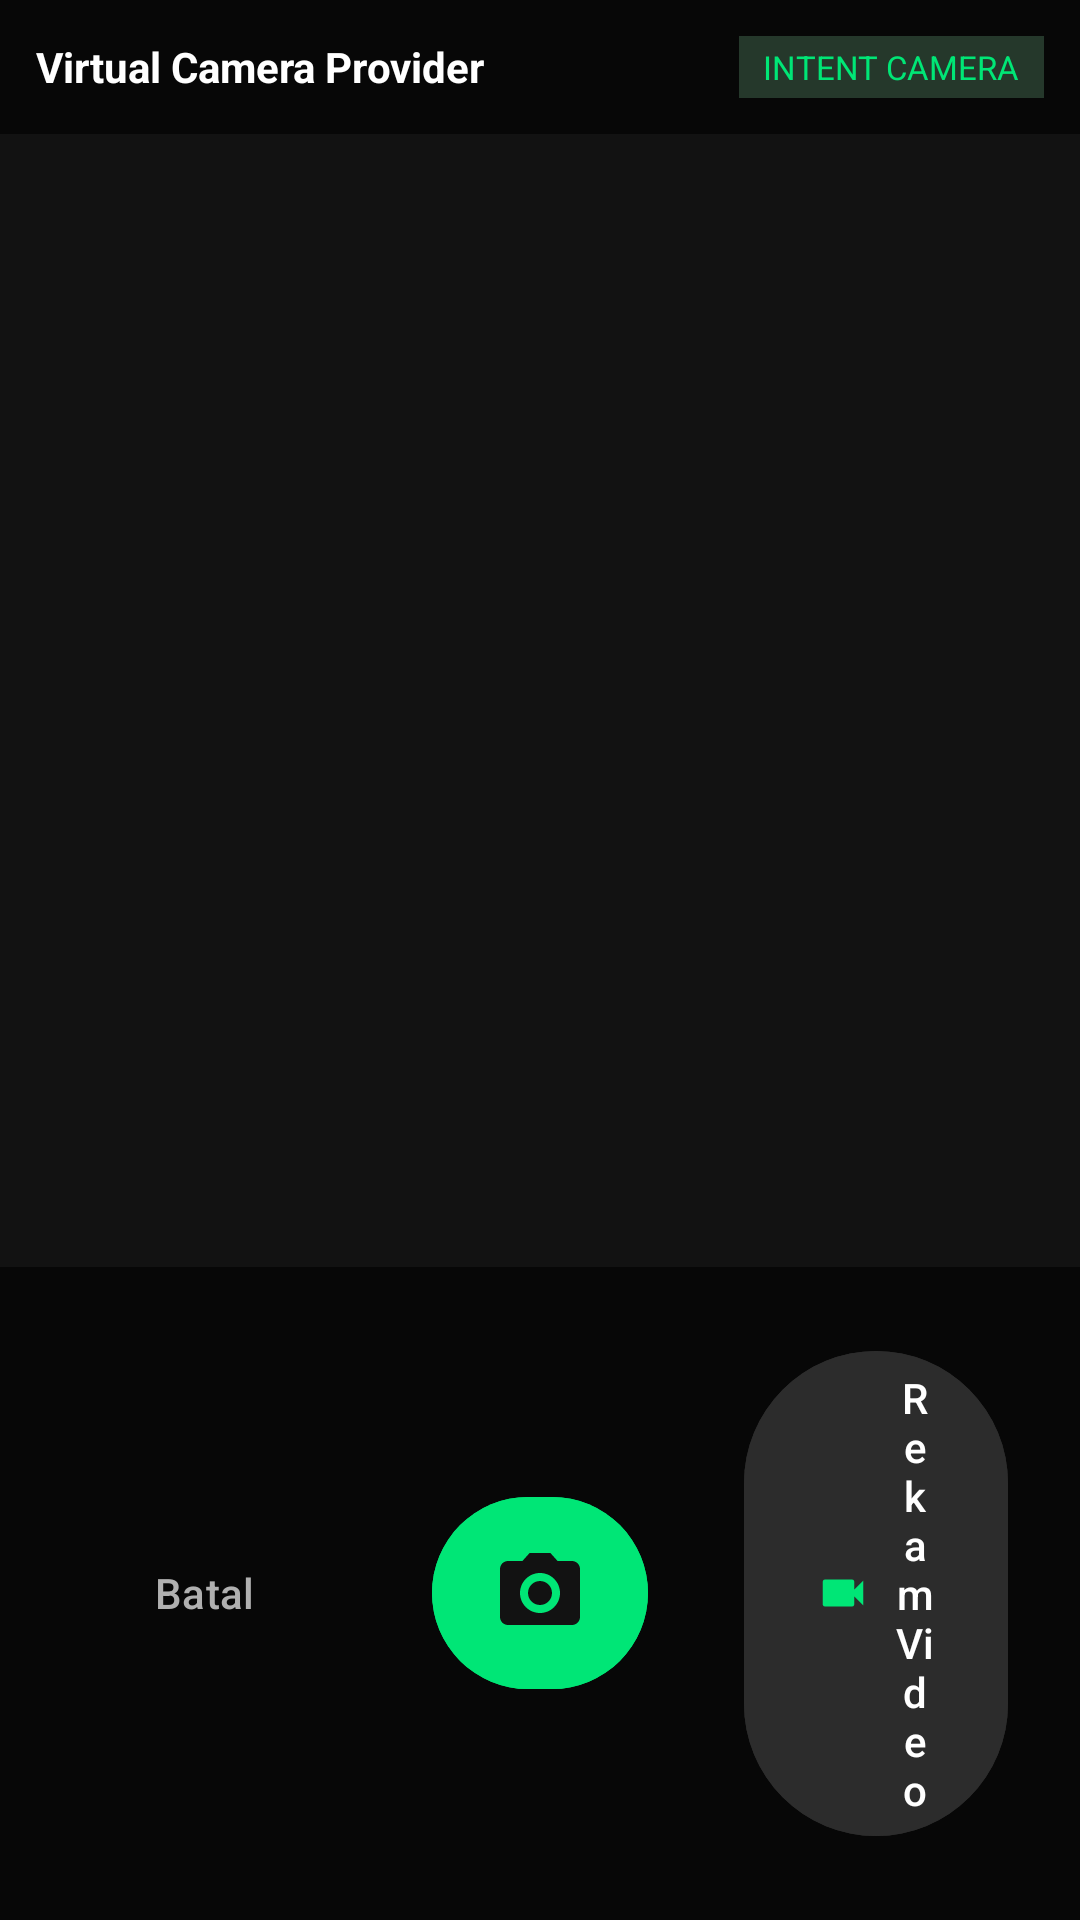

Screen size 1080x1920. Icon name, then its center in pixels as (x,y):
Ambil Foto: (540,1593)
